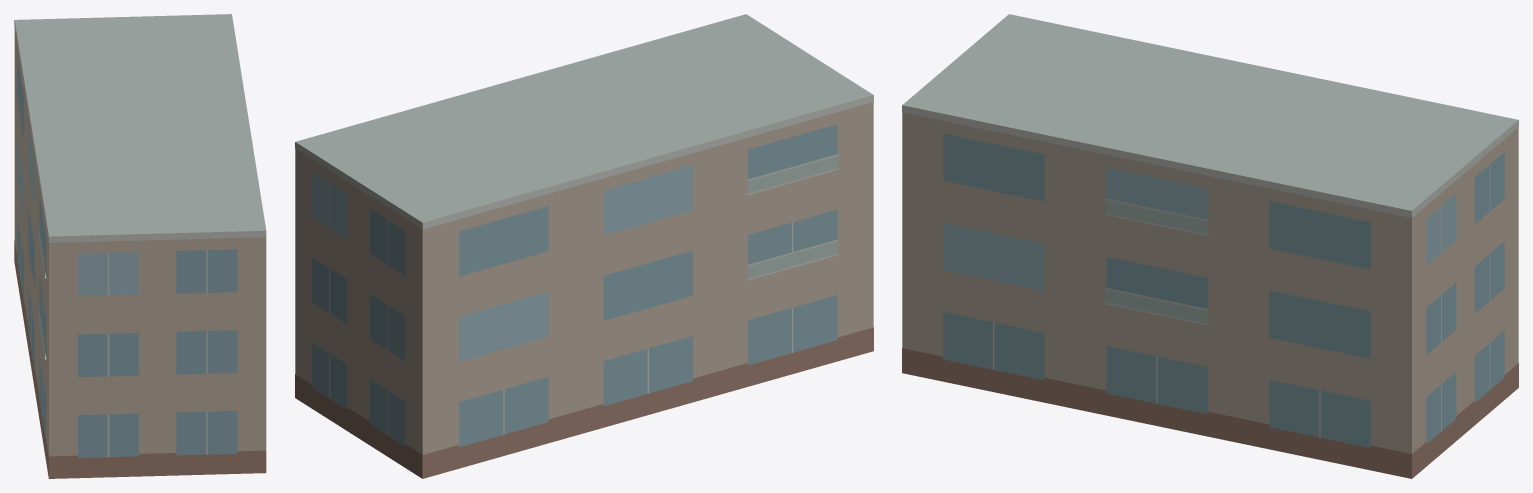
Rendered from survey-upis-32913996.glb.
3 renders of one model, left to right at view 1: azimuth 30°, elevation 25°; view 2: azimuth 150°, elevation 25°; view 3: azimuth 270°, elevation 25°, orthographic. The views are drawn at different scales.
Visible parts, largest first — view 1: survey-upis-32913996.tmp; view 2: survey-upis-32913996.tmp; view 3: survey-upis-32913996.tmp.
Part boxes in pixels (<box>): survey-upis-32913996.tmp: <box>14,14,266,478</box>; survey-upis-32913996.tmp: <box>295,14,873,478</box>; survey-upis-32913996.tmp: <box>902,14,1518,478</box>.
Size of the model in its own units: 14.44 by 9.15 by 19.1.
